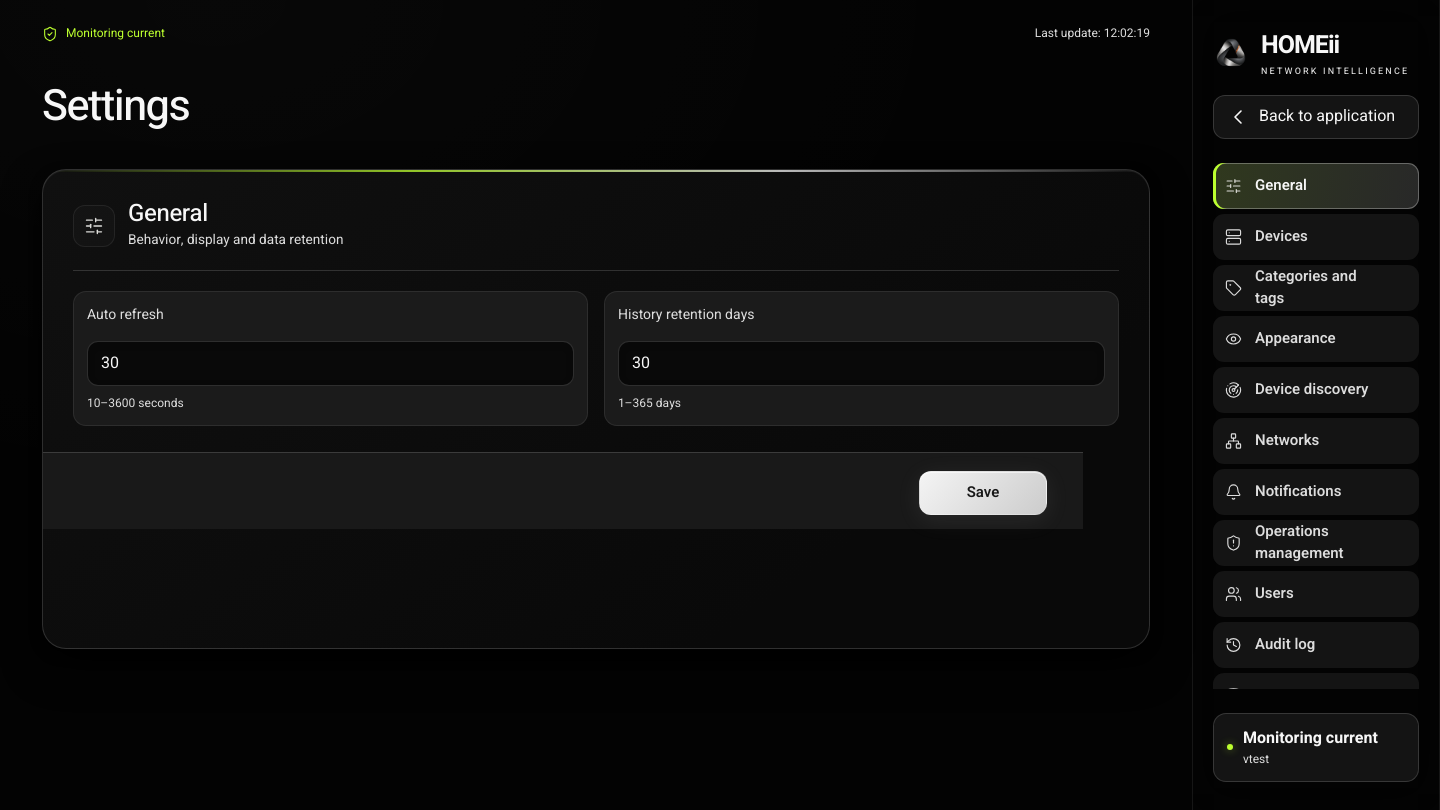
Test: secondary forms and navigation › opens and closes the users dialog
Expected: the button "Back to application" is shown, [1213,95,1419,139]
Click the button "Users" at point(1316, 594), box [1213,571,1419,617]
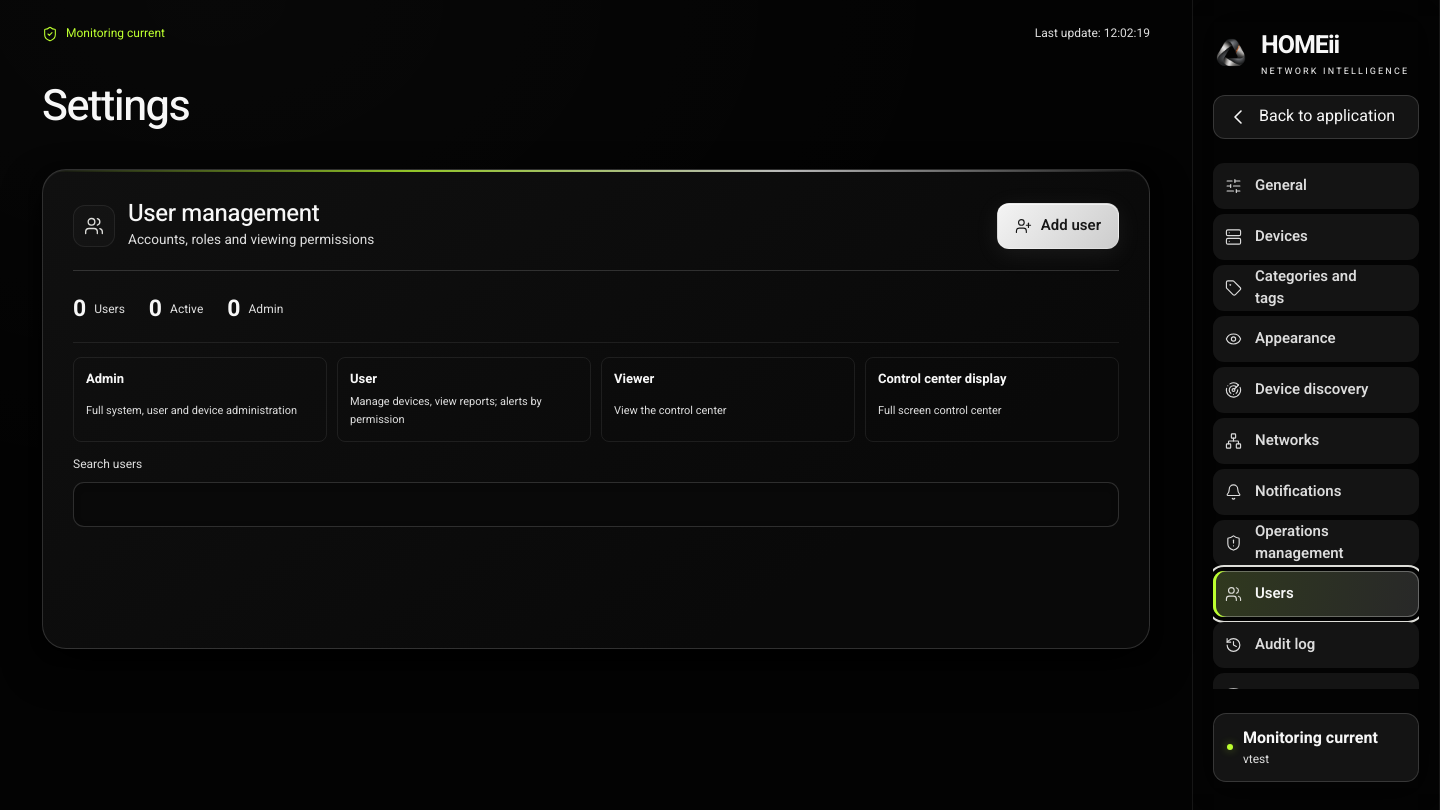
Click the button "Add user" at point(1058, 226), box [997,203,1119,249]
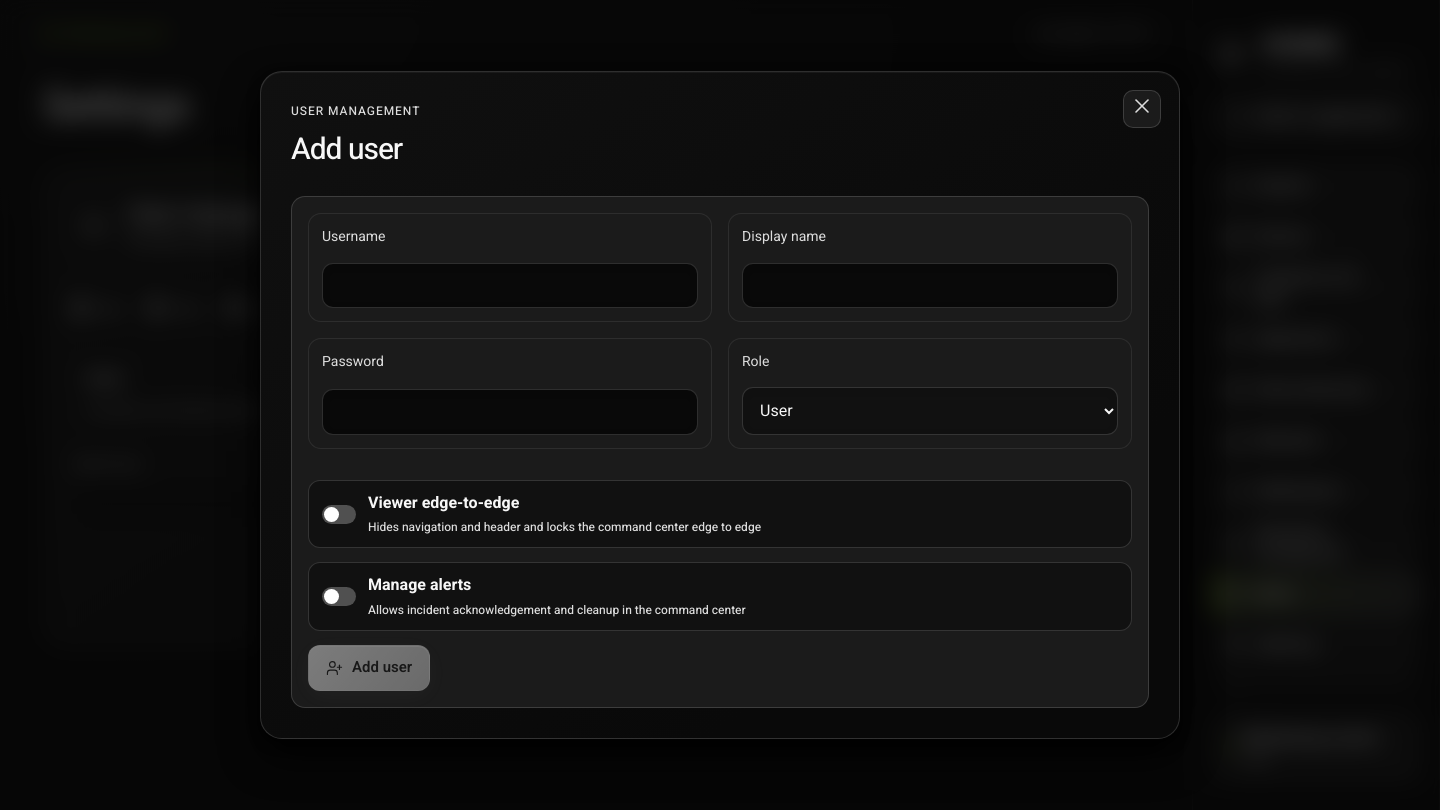
Now the dialog with class "modal-card" is shown, box [260,71,1180,739]
Click the button with class "modal-close" at point(1142, 109), box [1123,90,1161,128]
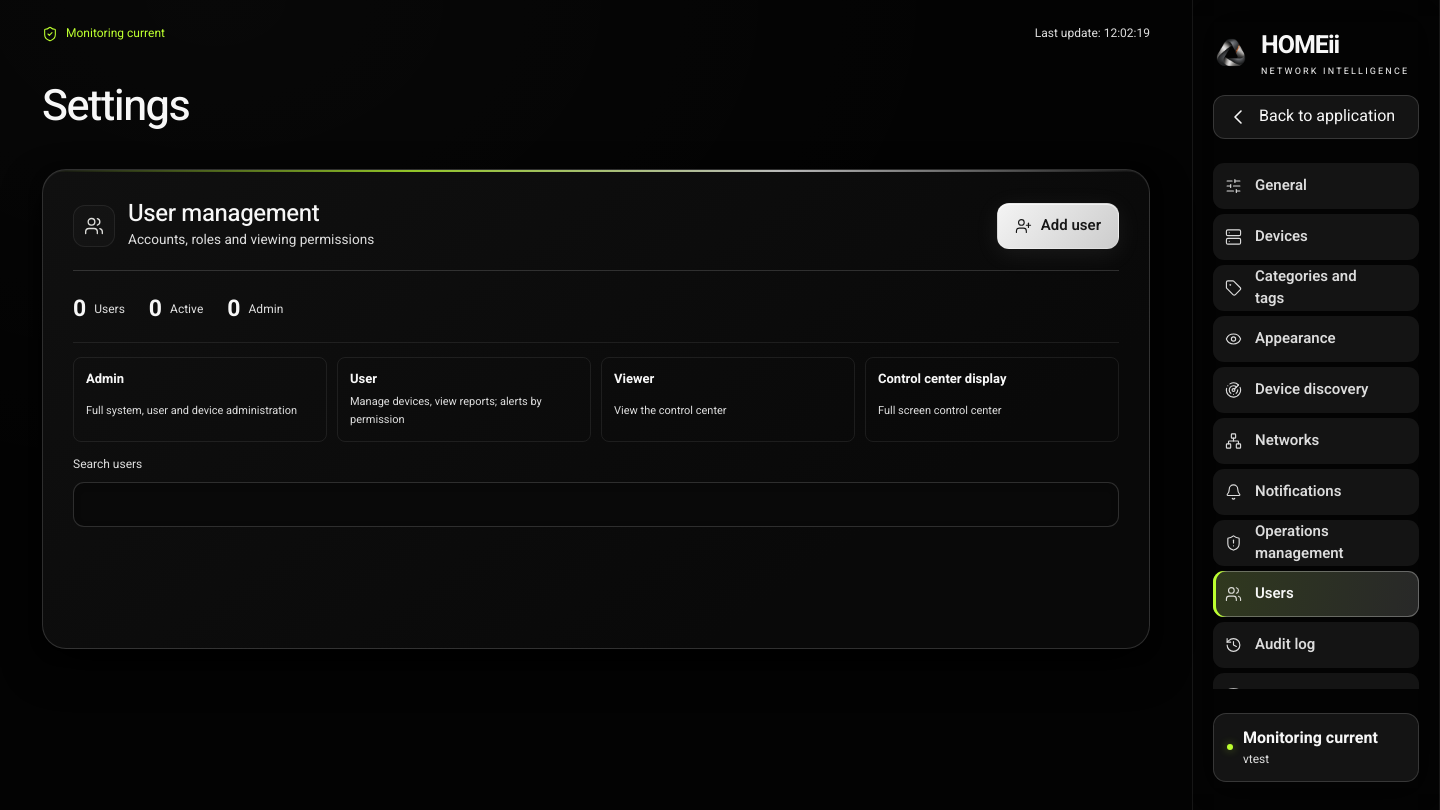
Now the dialog with class "modal-card" is gone
